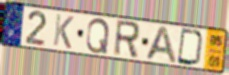2: (24, 10, 48, 49)
A: (143, 25, 179, 66)
D: (176, 27, 206, 68)
K: (52, 12, 76, 51)
Q: (84, 17, 111, 55)
R: (112, 19, 142, 61)
